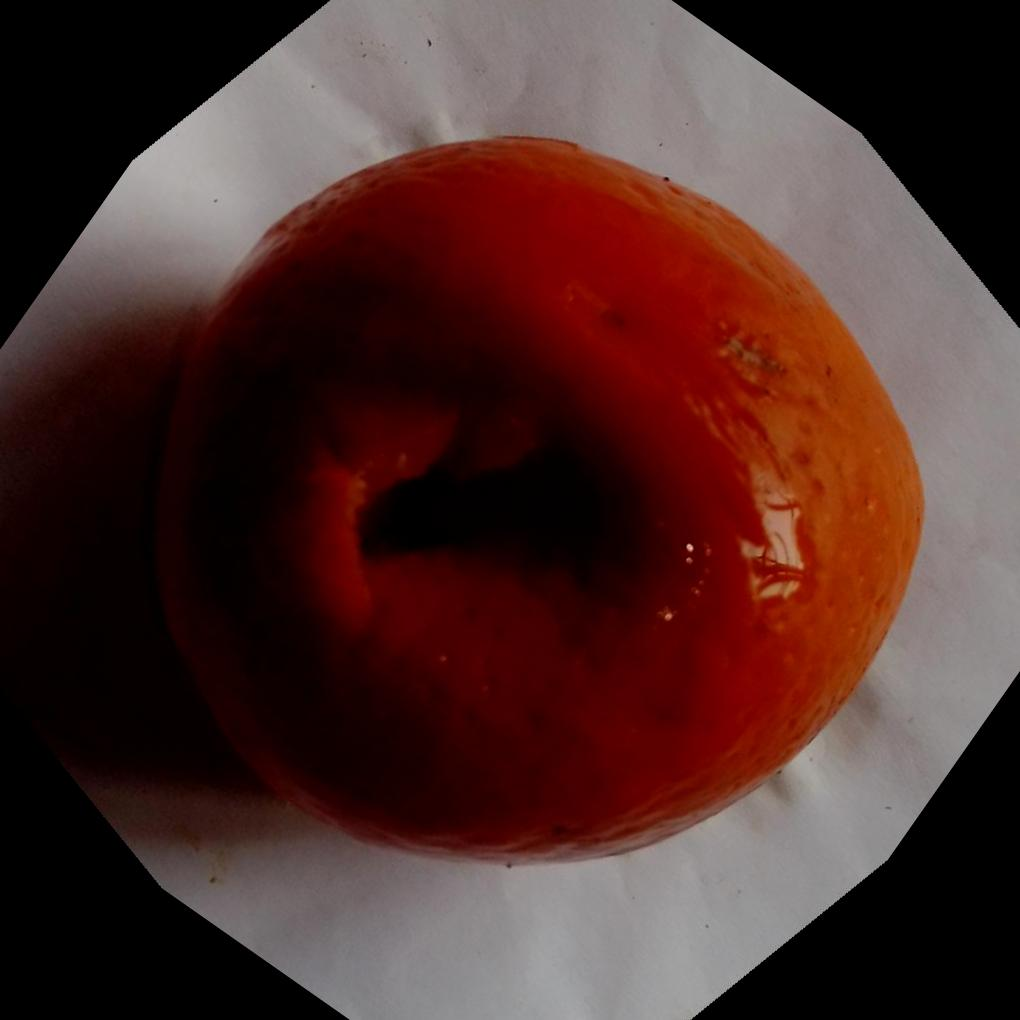FreshOrange: (142, 135, 926, 874)
